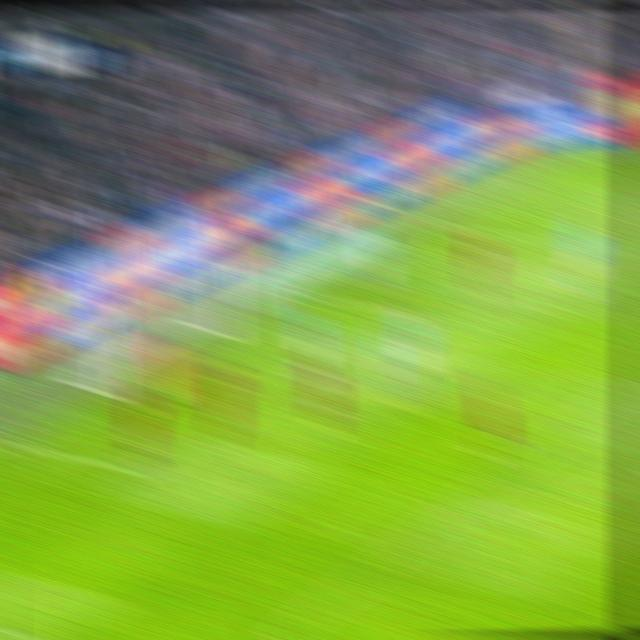bigarea_top_outter: (420, 213, 449, 234)
bottom_arc_area_intersection: (433, 499, 467, 526)
corner: (558, 144, 587, 159)
smallarea_bottom_inner: (120, 455, 153, 484)
smallarea_bottom_outter: (0, 428, 30, 456)
smallarea_top_inner: (394, 304, 420, 323)
smallarea_top_outter: (285, 283, 316, 304)
